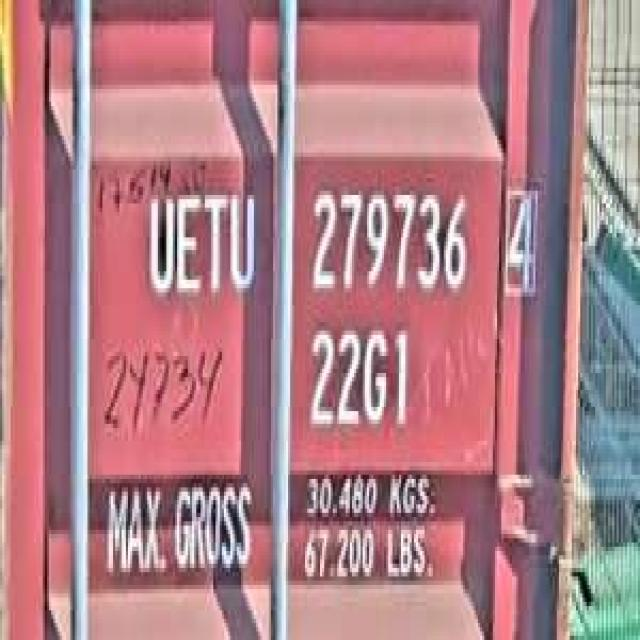dv: (499, 178, 542, 301)
owner: (141, 182, 260, 305)
serial: (303, 178, 471, 305)
size: (303, 314, 414, 441)
